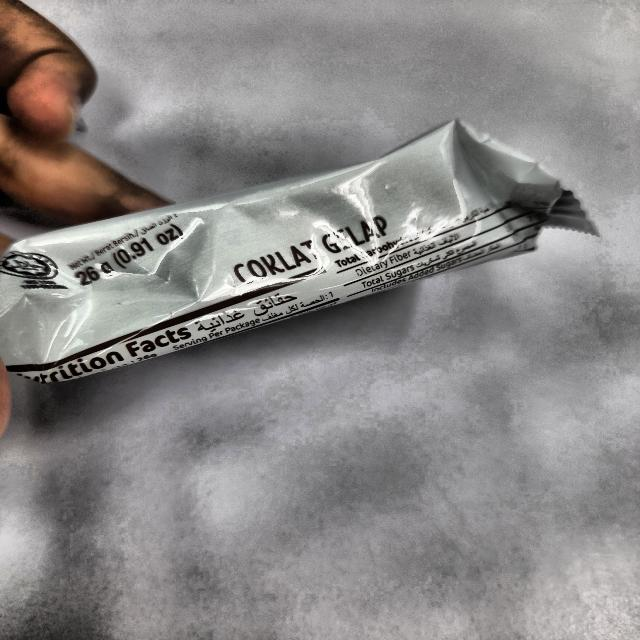Plastic: (0, 125, 592, 372)
